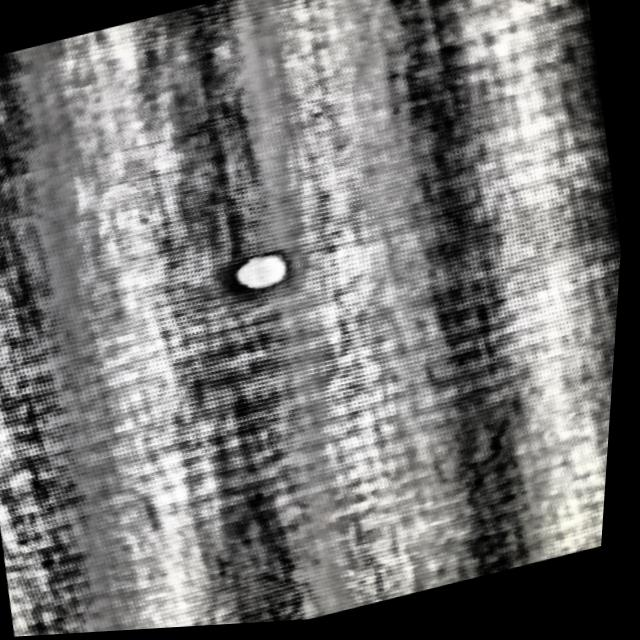Hole: (205, 237, 326, 316)
